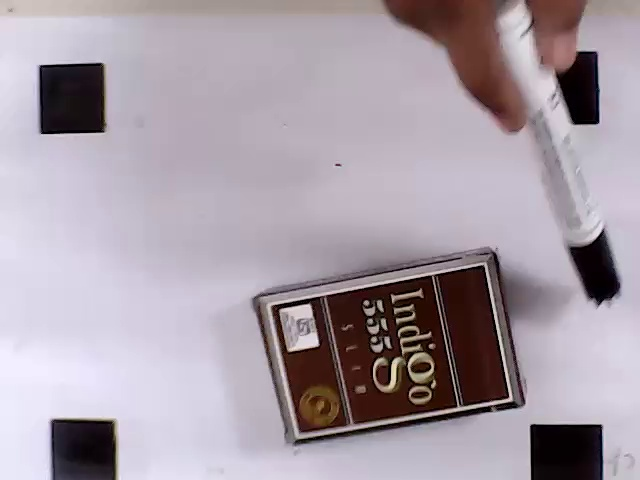BEX: (270, 263, 511, 435)
